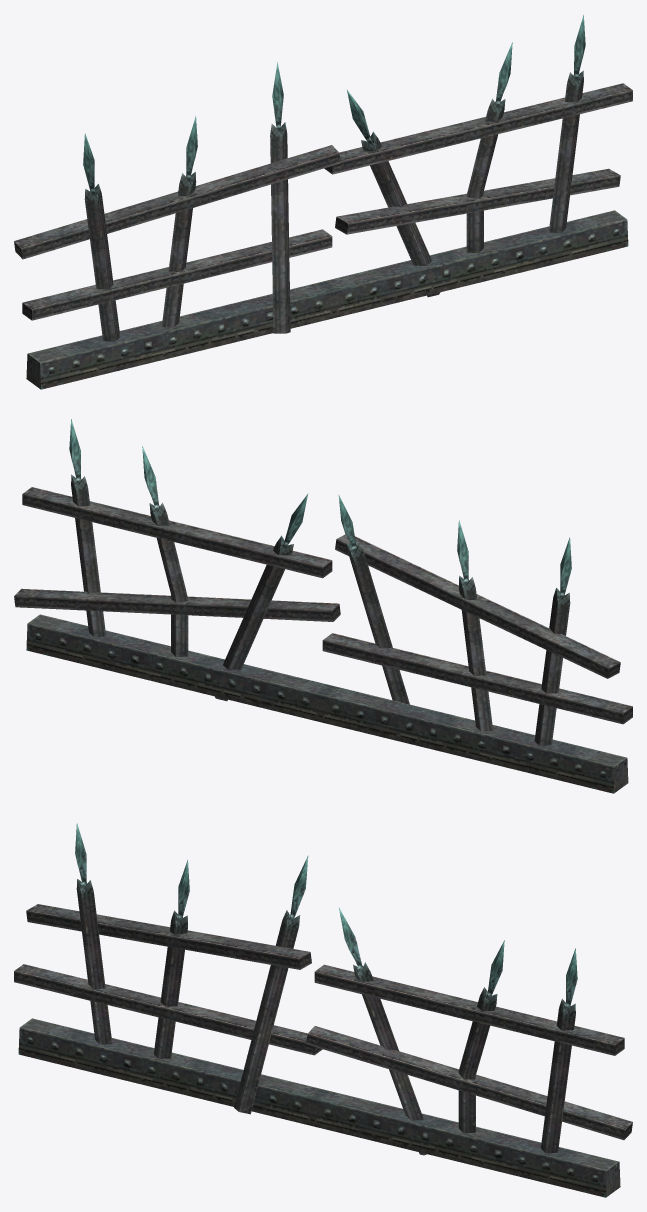
The model's file is 5st_wall_003.fbx.
The picture shows the model from 3 angles, top to bottom: view 1: azimuth 30°, elevation 25°; view 2: azimuth 150°, elevation 25°; view 3: azimuth 330°, elevation 25°; orthographic projection.
Visible parts, largest first — view 1: 5st_wall_003; view 2: 5st_wall_003; view 3: 5st_wall_003.
Boxes of the visible parts, x1,y1,x2,y2 form: 5st_wall_003: [14, 15, 632, 389]; 5st_wall_003: [14, 419, 632, 793]; 5st_wall_003: [14, 823, 632, 1197].
Size of the model in its own units: 24.68 by 9.94 by 2.76.
